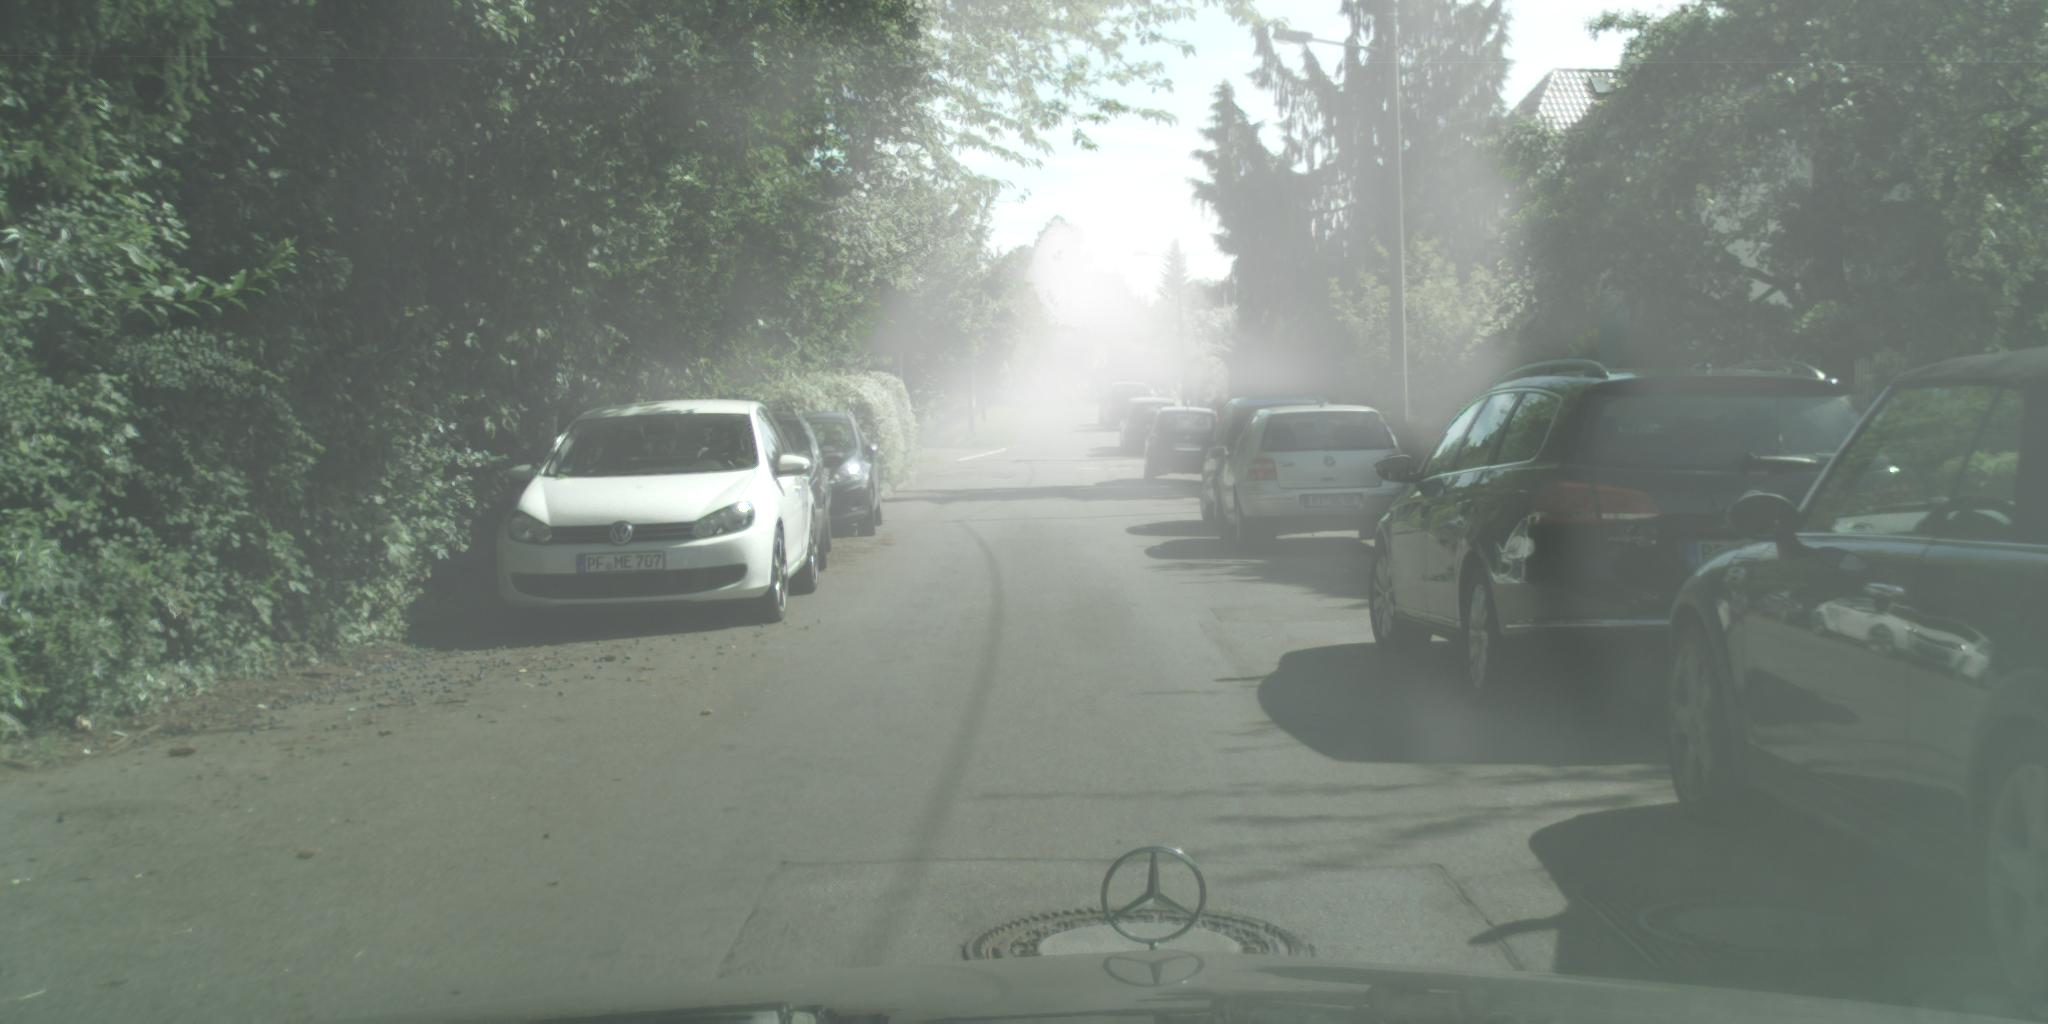car: (1665, 347, 2045, 1020), (1368, 357, 1864, 712), (495, 398, 822, 637), (1211, 404, 1412, 554), (1195, 397, 1331, 524), (771, 408, 837, 579), (801, 411, 884, 539), (1139, 408, 1219, 486), (1121, 398, 1179, 456), (1098, 381, 1159, 432)
